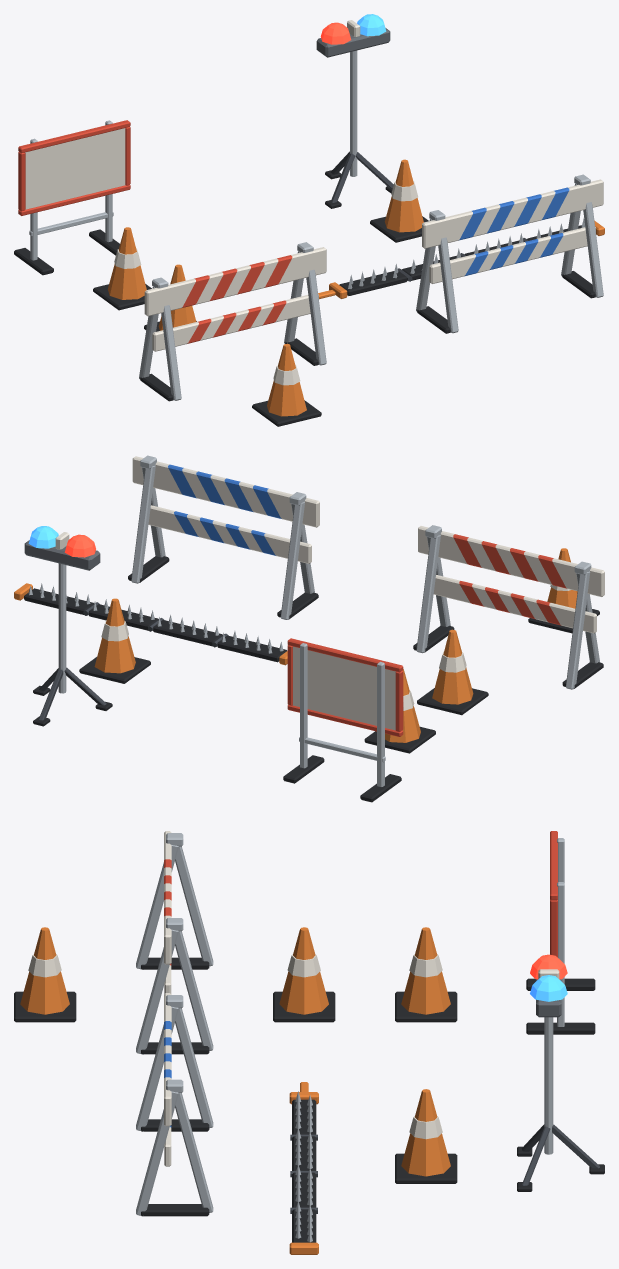
Rendered from police-roadblock-set.glb.
The picture shows the model from 3 angles, top to bottom: view 1: azimuth 30°, elevation 25°; view 2: azimuth 150°, elevation 25°; view 3: azimuth 270°, elevation 25°; orthographic projection. The views are drawn at different scales.
Parts seen in each view (by area): view 1: SignFace, Barrier_Red_TopBoard, Barrier_Blue_TopBoard, Barrier_Red_LowBoard, Barrier_Blue_LowBoard, TrafficCone_3_Body, TrafficCone_4_Body, TrafficCone_2_Body, Barrier_Blue_Leg, Barrier_Red_Leg.002, Barrier_Red_Leg, Barrier_Blue_Leg.002 (+11 smaller); view 2: SignFace, Barrier_Blue_TopBoard, Barrier_Red_TopBoard, Barrier_Blue_LowBoard, Barrier_Red_LowBoard, TrafficCone_1_Body, TrafficCone_2_Body, Barrier_Blue_Leg.001, Barrier_Red_Leg.001, Barrier_Red_Leg.003, Barrier_Blue_Leg.003, WarningLight_Pole (+24 smaller); view 3: TrafficCone_4_Body, TrafficCone_2_Body, TrafficCone_3_Body, TrafficCone_1_Body, WarningLight_Pole, Barrier_Red_Leg.001, Barrier_Blue_Leg.001, Barrier_Blue_Leg.003, Barrier_Red_Leg.003, Barrier_Blue_Leg.002, Barrier_Red_Leg.002, Barrier_Blue_Leg (+19 smaller).
Boxes of the visible parts, x1,y1,x2,y2 form: SignFace: (25, 128, 125, 209); Barrier_Red_TopBoard: (144, 247, 326, 316); Barrier_Blue_TopBoard: (422, 179, 603, 248); Barrier_Red_LowBoard: (152, 294, 318, 351); Barrier_Blue_LowBoard: (429, 227, 595, 283); TrafficCone_3_Body: (267, 343, 306, 416); TrafficCone_4_Body: (107, 227, 146, 299); TrafficCone_2_Body: (384, 159, 423, 232); Barrier_Blue_Leg: (438, 237, 458, 333); Barrier_Red_Leg.002: (306, 269, 326, 365); Barrier_Red_Leg: (161, 305, 181, 400); Barrier_Blue_Leg.002: (583, 202, 603, 297); SignFace: (293, 646, 395, 730); Barrier_Blue_TopBoard: (132, 456, 319, 527); Barrier_Red_TopBoard: (418, 526, 604, 596); Barrier_Blue_LowBoard: (148, 505, 311, 563); Barrier_Red_LowBoard: (433, 575, 596, 633); TrafficCone_1_Body: (432, 629, 473, 704); TrafficCone_2_Body: (94, 598, 135, 673); Barrier_Blue_Leg.001: (280, 502, 304, 619); Barrier_Red_Leg.001: (565, 571, 590, 689); Barrier_Red_Leg.003: (416, 535, 440, 653); Barrier_Blue_Leg.003: (131, 465, 155, 583); WarningLight_Pole: (58, 563, 66, 693); TrafficCone_4_Body: (401, 927, 450, 1014); TrafficCone_2_Body: (401, 1089, 450, 1176); TrafficCone_3_Body: (20, 927, 69, 1014); TrafficCone_1_Body: (279, 927, 328, 1014); WarningLight_Pole: (544, 1017, 553, 1154); Barrier_Red_Leg.001: (175, 846, 213, 966); Barrier_Blue_Leg.001: (175, 1008, 213, 1128); Barrier_Blue_Leg.003: (175, 1093, 213, 1212); Barrier_Red_Leg.003: (175, 931, 213, 1050); Barrier_Blue_Leg.002: (136, 1091, 178, 1216); Barrier_Red_Leg.002: (136, 929, 178, 1054); Barrier_Blue_Leg: (136, 1006, 178, 1131).
Bounding box in the file's own units: 20.43 × 6.55 × 17.09.
